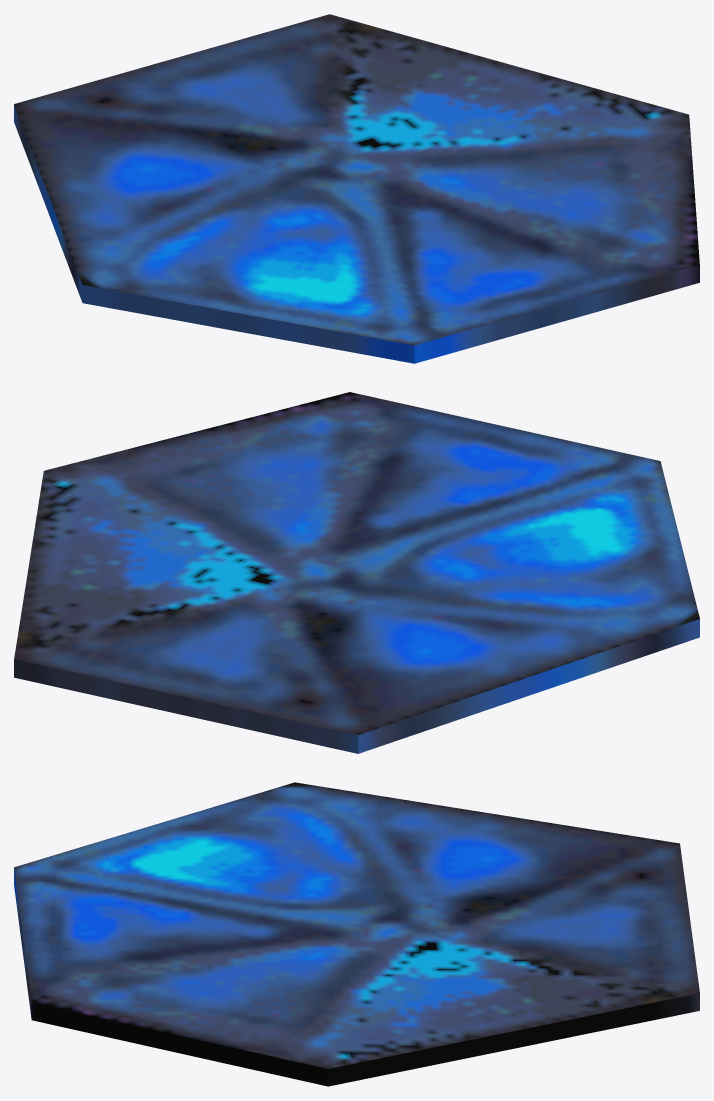
The model's file is Mana.glb.
3 renders of one model, top to bottom at view 1: azimuth 30°, elevation 25°; view 2: azimuth 150°, elevation 25°; view 3: azimuth 270°, elevation 25°, orthographic. The views are drawn at different scales.
Visible parts, largest first — view 1: Cylinder; view 2: Cylinder; view 3: Cylinder.
Boxes of the visible parts, x1,y1,x2,y2 form: Cylinder: [14, 14, 699, 363]; Cylinder: [14, 392, 699, 753]; Cylinder: [14, 782, 699, 1086].
Bounding box in the file's own units: 1.76 × 0.063 × 1.75.
1 material, 1 textured.
